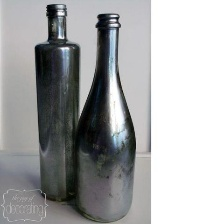bottle: (71, 8, 144, 224), (33, 1, 89, 201)
